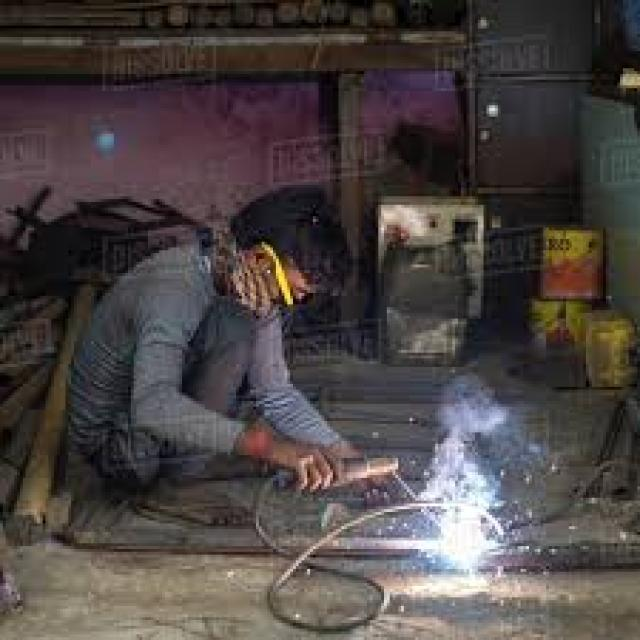without_helmet: (191, 188, 374, 328)
